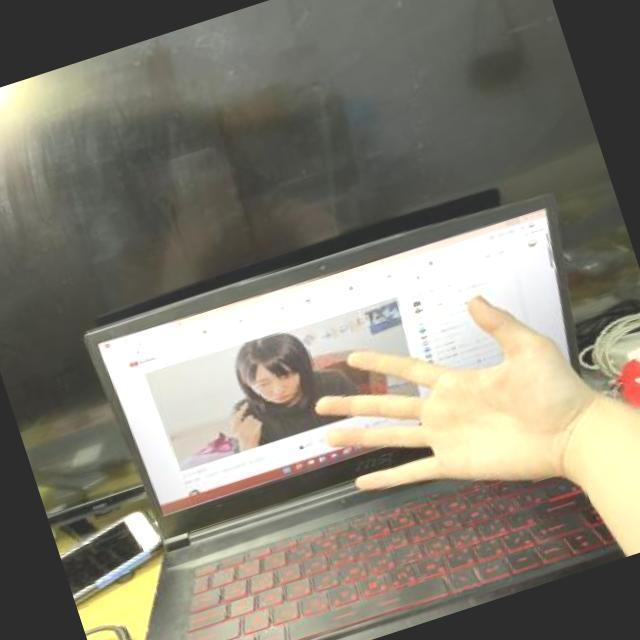hand: (276, 251, 619, 553)
